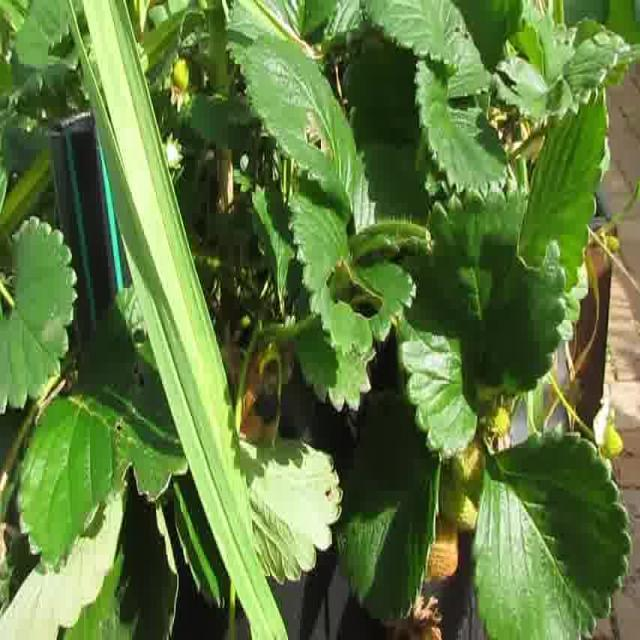Fruta sana: (436, 462, 482, 530), (420, 512, 460, 576), (452, 438, 486, 502), (597, 418, 624, 458), (170, 56, 190, 95), (491, 408, 508, 437), (607, 235, 620, 253)
